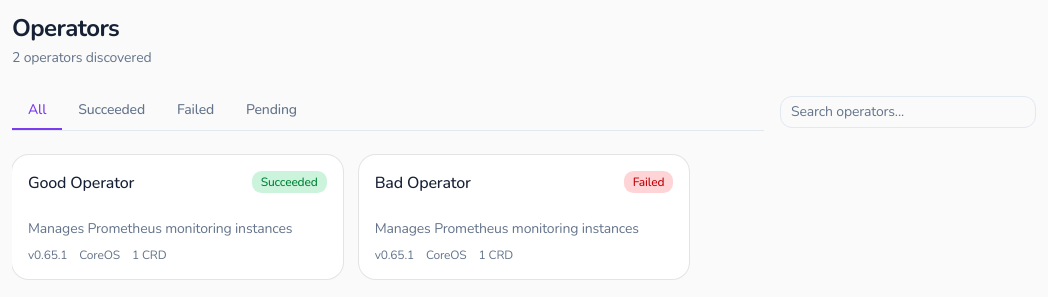
Test: OperatorsClient › filters to only Failed operators when that tab is clicked
The width and height of the screenshot is (1048, 297).
Check: the text "Bad Operator" is shown, box [375,171,471,195]
Click the button "Failed" at [196, 111], box [161,92,230,130]
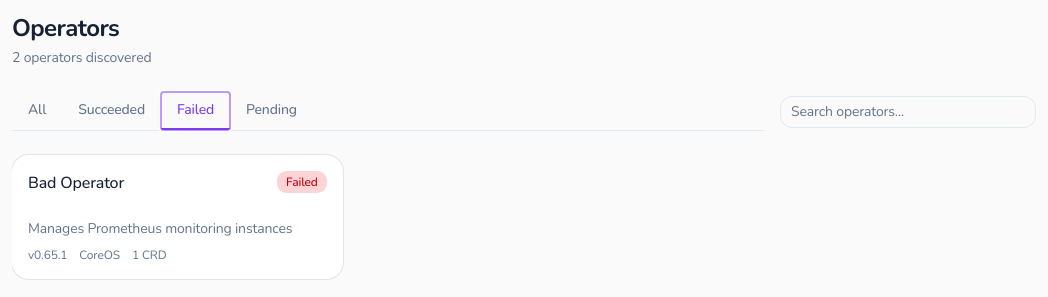
Check: the text "Bad Operator" is shown, box [28,171,124,195]
Check: the link "Good Operator" is gone
